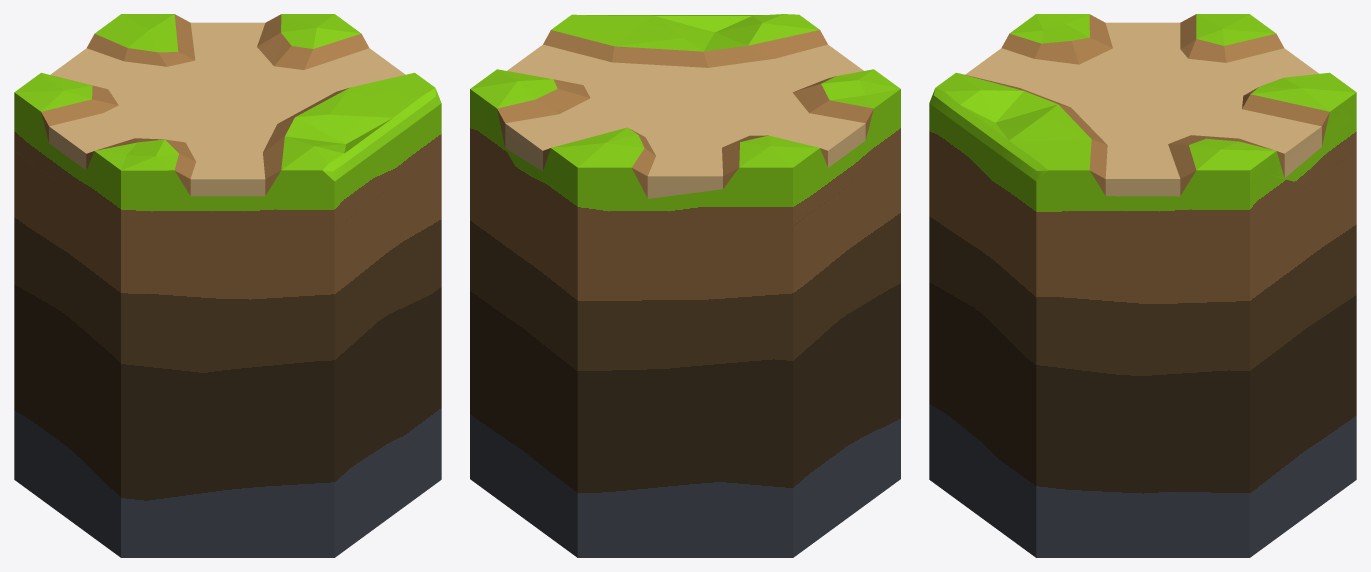
Rendered from HexTilePath_4Way_v1.glb.
The picture shows the model from 3 angles, left to right: view 1: azimuth 30°, elevation 25°; view 2: azimuth 150°, elevation 25°; view 3: azimuth 270°, elevation 25°; orthographic projection.
Visible parts, largest first — view 1: SM_Tile_Hex_Path_09; view 2: SM_Tile_Hex_Path_09; view 3: SM_Tile_Hex_Path_09.
Part boxes in pixels (x1,y1,x2,y2): SM_Tile_Hex_Path_09: (14, 14, 441, 557); SM_Tile_Hex_Path_09: (470, 14, 900, 557); SM_Tile_Hex_Path_09: (929, 14, 1356, 557).
Bounding box in the file's own units: 1.73 × 2.02 × 2.
1 material, 1 textured.
